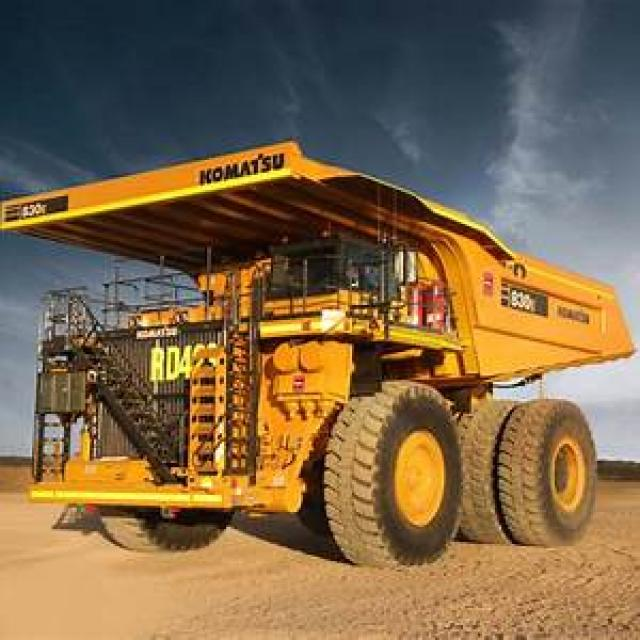dump_truck: (11, 139, 638, 565)
